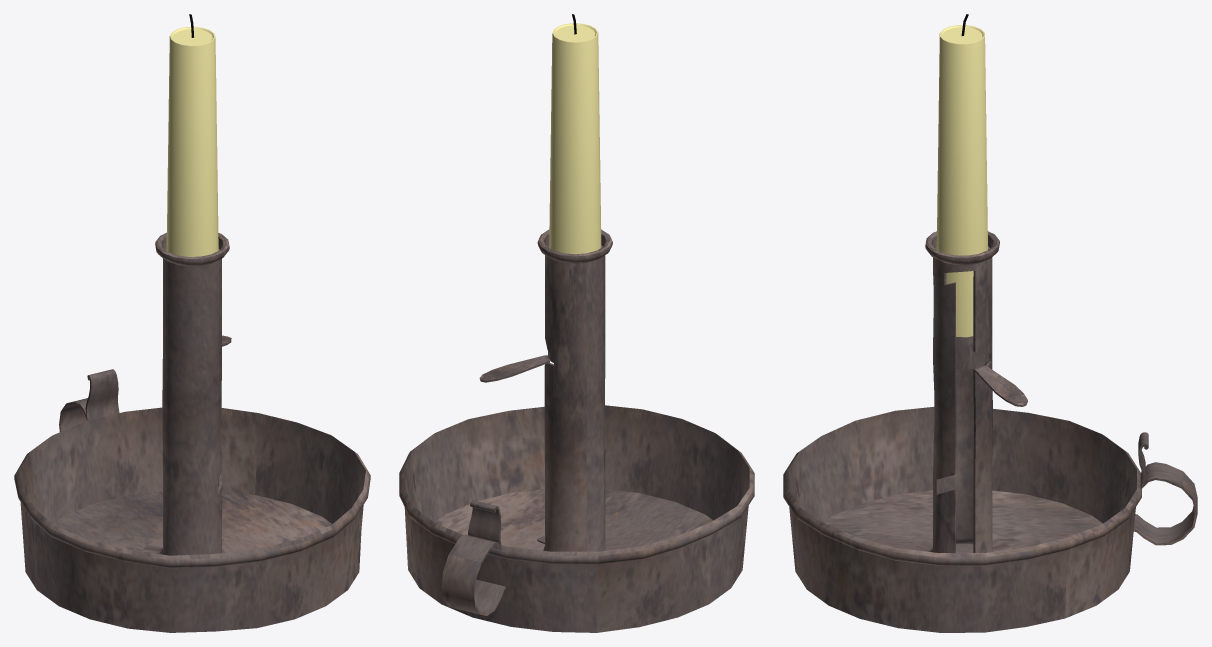
The model's file is candleholder.fbx.
The picture shows the model from 3 angles, left to right: view 1: azimuth 30°, elevation 25°; view 2: azimuth 150°, elevation 25°; view 3: azimuth 270°, elevation 25°; orthographic projection.
Parts seen in each view (by area): view 1: candleholder, candleholder.001; view 2: candleholder, candleholder.001; view 3: candleholder, candleholder.001.
Part boxes in pixels (box(x1,y1,x2,y2)): candleholder: box(14, 232, 370, 632); candleholder.001: box(166, 14, 218, 256); candleholder: box(399, 229, 754, 632); candleholder.001: box(549, 14, 601, 254); candleholder: box(783, 231, 1197, 632); candleholder.001: box(936, 14, 987, 337).
Bounding box in the file's own units: 212 × 359 × 246.
